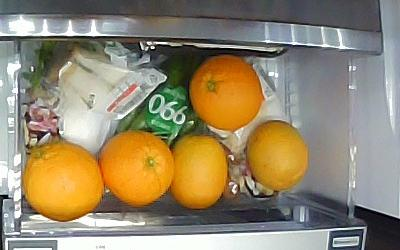orange: (23, 142, 102, 221), (99, 130, 174, 208), (190, 56, 263, 131), (247, 120, 310, 192), (170, 133, 227, 207)
